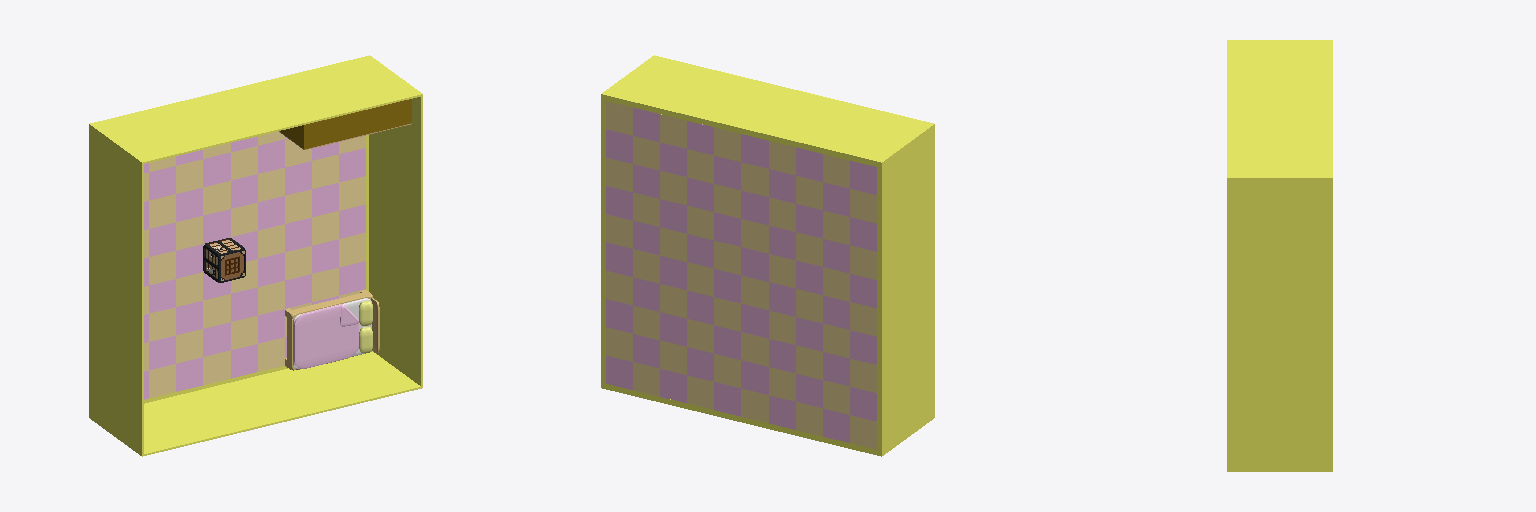
Rendered from bedroom.obj.
3 views of the same model, side by side, from view 1: azimuth 30°, elevation 25°; view 2: azimuth 150°, elevation 25°; view 3: azimuth 270°, elevation 25° (orthographic).
Parts seen in each view (by area): view 1: obj_0; view 2: obj_0; view 3: obj_0.
Part boxes in pixels (x1,y1,x2,y2): obj_0: (89,55,422,456); obj_0: (601,55,934,456); obj_0: (1227,40,1332,471).
Size of the model in its own units: 156 by 156 by 51.